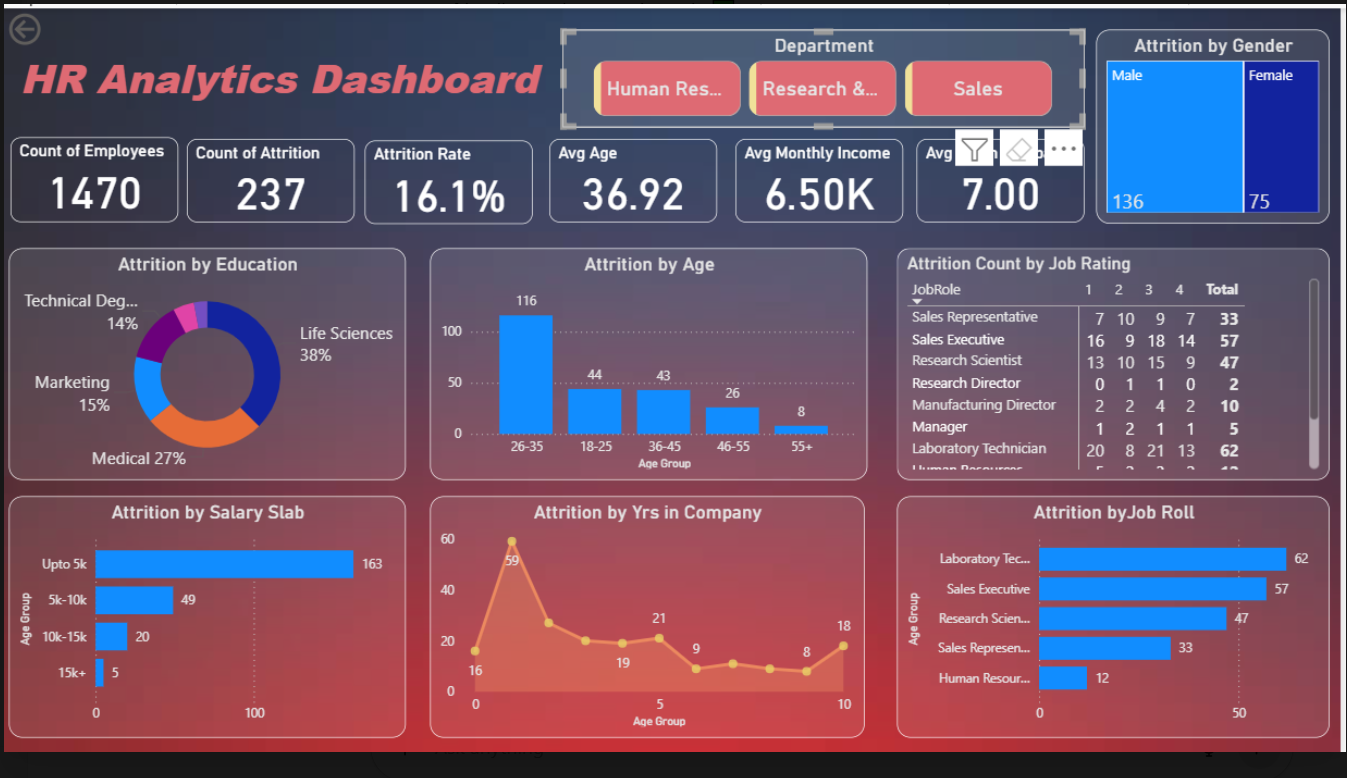

Layout of this report page (visuals, bound fields, positions):
{"tool":"powerbi","page":{"name":"Page 1","canvas":[1280,720],"ordinal":0},"visuals":[{"type":"card","title":"Count of Employees","fields":{"Values":["Count(HR_Analytics.EmpID)"]},"box":[6.3,123.5,161,81.3],"z":0},{"type":"card","title":"Count of Attrition","fields":{"Values":["Sum(HR_Analytics.Attrition_count)"]},"box":[175.1,125,161,79.7],"z":1000},{"type":"card","title":"Attrition Rate","fields":{"Values":["HR_Analytics.Attrition_rate"]},"box":[345.4,126.6,161,79.7],"z":2000},{"type":"card","title":"Avg Age","fields":{"Values":["Avg(HR_Analytics.Age)"]},"box":[522,125,161,79.7],"z":3000},{"type":"card","title":"Avg Monthly Income","fields":{"Values":["Avg(HR_Analytics.MonthlyIncome)"]},"box":[700.2,125,161,79.7],"z":4000},{"type":"card","title":"Avg Yrs in Company","fields":{"Values":["Avg(HR_Analytics.YearsAtCompany)"]},"box":[873.7,125,161,79.7],"z":5000},{"type":"donutChart","title":" Attrition by Education","fields":{"Category":["HR_Analytics.EducationField"],"Y":["Sum(HR_Analytics.Attrition_count)"]},"box":[4.7,229.8,379.8,221.9],"z":6000},{"type":"columnChart","title":" Attrition by Age","fields":{"Category":["HR_Analytics.AgeGroup"],"Y":["Sum(HR_Analytics.Attrition_count)"]},"box":[407.9,229.8,418.9,221.9],"z":7000},{"type":"pivotTable","title":"Attrition Count by Job Rating","fields":{"Rows":["HR_Analytics.JobRole"],"Columns":["HR_Analytics.JobSatisfaction"],"Values":["Sum(HR_Analytics.Attrition_count)"]},"box":[855,229.8,414.2,221.9],"z":8000},{"type":"barChart","title":" Attrition by Salary Slab","fields":{"Category":["HR_Analytics.SalarySlab"],"Y":["Sum(HR_Analytics.Attrition_count)"]},"box":[4.7,467.3,379.8,231.3],"z":9000},{"type":"barChart","title":" Attrition byJob Roll","fields":{"Y":["Sum(HR_Analytics.Attrition_count)"],"Category":["HR_Analytics.JobRole"]},"box":[855,467.3,414.2,231.3],"z":10000},{"type":"areaChart","title":" Attrition by Yrs in Company","fields":{"Category":["HR_Analytics.YearsAtCompany"],"Y":["Sum(HR_Analytics.Attrition_count)"]},"box":[407.9,467.3,415.8,231.3],"z":11000},{"type":"treemap","title":" Attrition by Gender","fields":{"Group":["HR_Analytics.Gender"],"Values":["Sum(HR_Analytics.Attrition_count)"]},"box":[1045.6,20.3,223.5,186],"z":12000},{"type":"actionButton","box":[0,0,100,40],"z":13000},{"type":"advancedSlicerVisual","fields":{"Values":["HR_Analytics.Department"]},"box":[534.5,20.3,500.2,93.8],"z":14000},{"type":"textbox","box":[4.7,34.4,517.3,64.1],"z":15000}]}

Visuals, with their boxes in screenshot pixels (x1, y1, x2, y2), scaled from the page's 1280x720 canvas onto the 1347x778 screenshot:
"Count of Employees" card: [x1=7, y1=133, x2=176, y2=221]
"Count of Attrition" card: [x1=184, y1=135, x2=354, y2=221]
"Attrition Rate" card: [x1=363, y1=137, x2=533, y2=223]
"Avg Age" card: [x1=549, y1=135, x2=719, y2=221]
"Avg Monthly Income" card: [x1=737, y1=135, x2=906, y2=221]
"Avg Yrs in Company" card: [x1=919, y1=135, x2=1089, y2=221]
" Attrition by Education" donutChart: [x1=5, y1=248, x2=405, y2=488]
" Attrition by Age" columnChart: [x1=429, y1=248, x2=870, y2=488]
"Attrition Count by Job Rating" pivotTable: [x1=900, y1=248, x2=1336, y2=488]
" Attrition by Salary Slab" barChart: [x1=5, y1=505, x2=405, y2=755]
" Attrition byJob Roll" barChart: [x1=900, y1=505, x2=1336, y2=755]
" Attrition by Yrs in Company" areaChart: [x1=429, y1=505, x2=867, y2=755]
" Attrition by Gender" treemap: [x1=1100, y1=22, x2=1336, y2=223]
actionButton: [x1=0, y1=0, x2=105, y2=43]
advancedSlicerVisual - HR_Analytics.Department: [x1=562, y1=22, x2=1089, y2=123]
textbox: [x1=5, y1=37, x2=549, y2=106]
